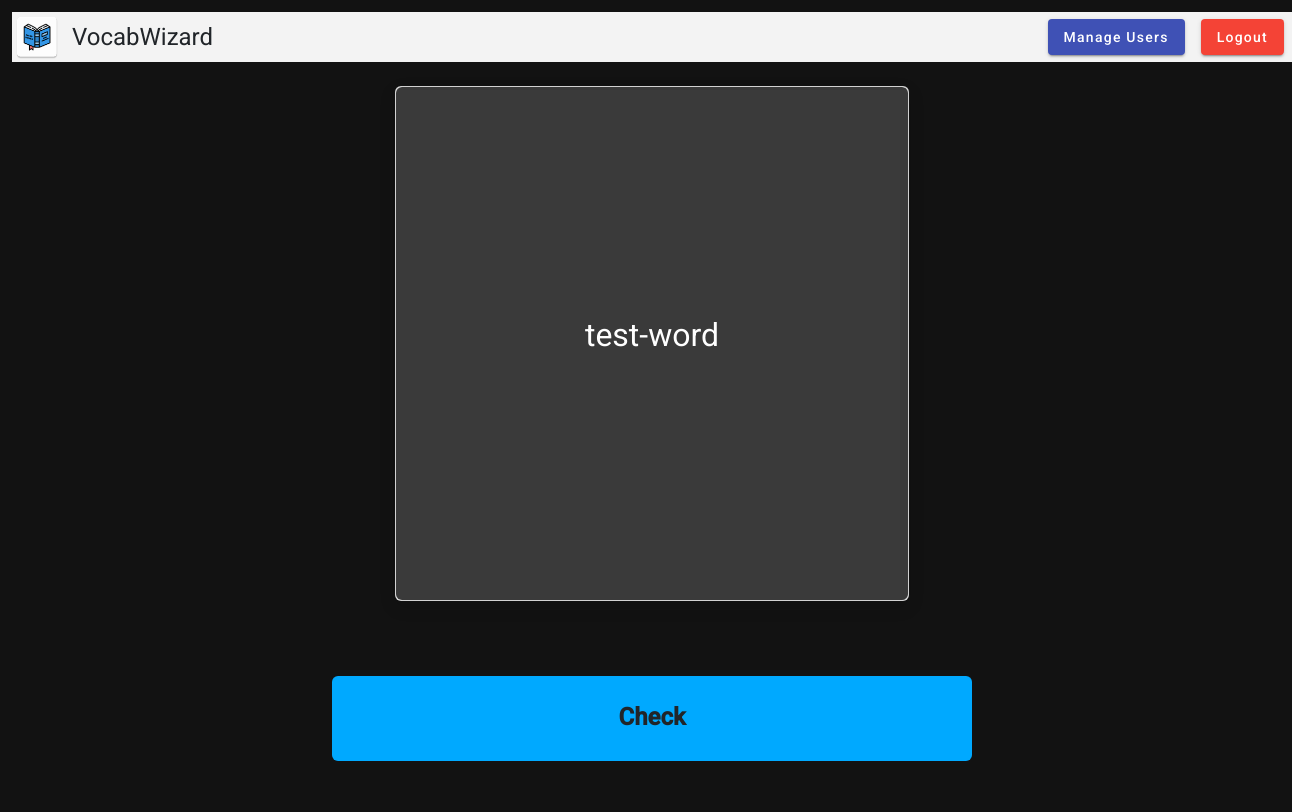
Test: Content › should display translation on card-back
Click the button with test id "learn-check-button". click: {"x": 652, "y": 719}
box: [332, 676, 972, 761]
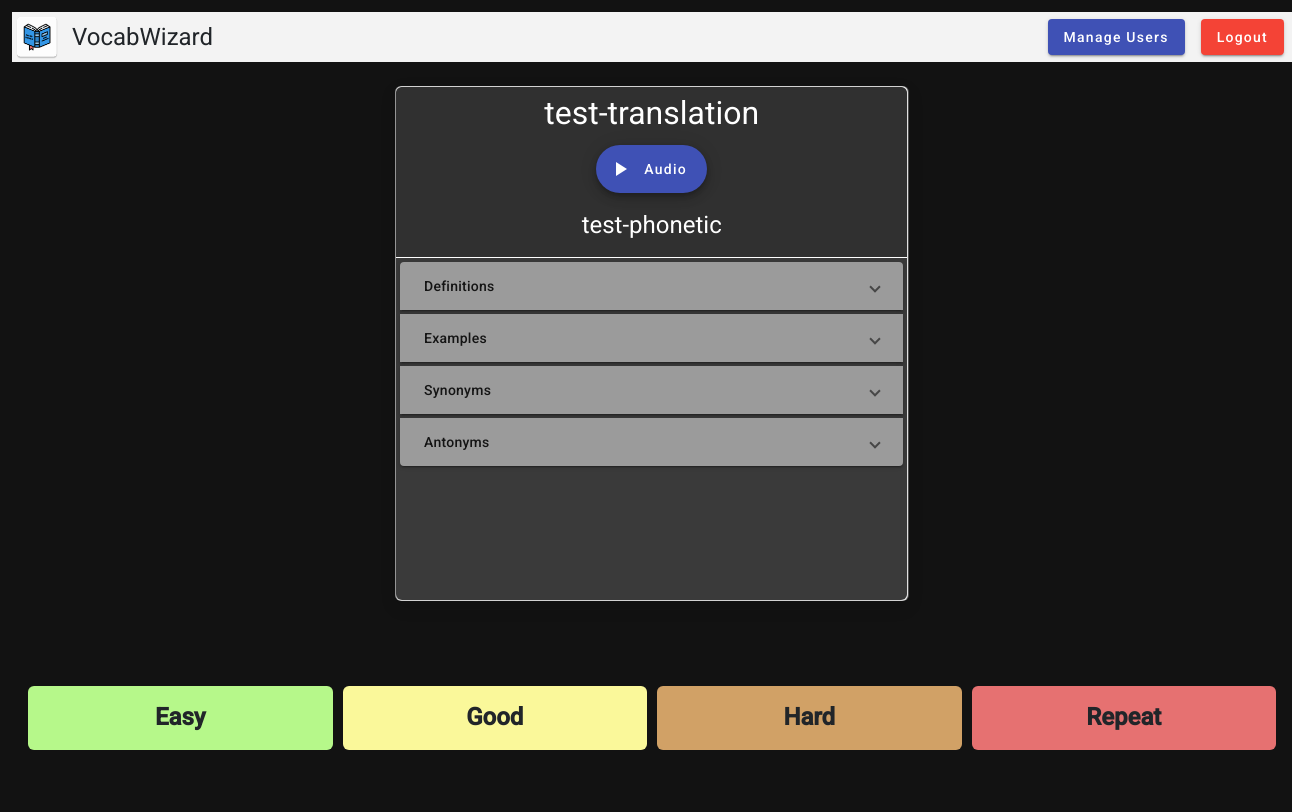
Expected: the heading with test id "vocab-card-translation" reads "test-translation", [545, 94, 760, 132]
